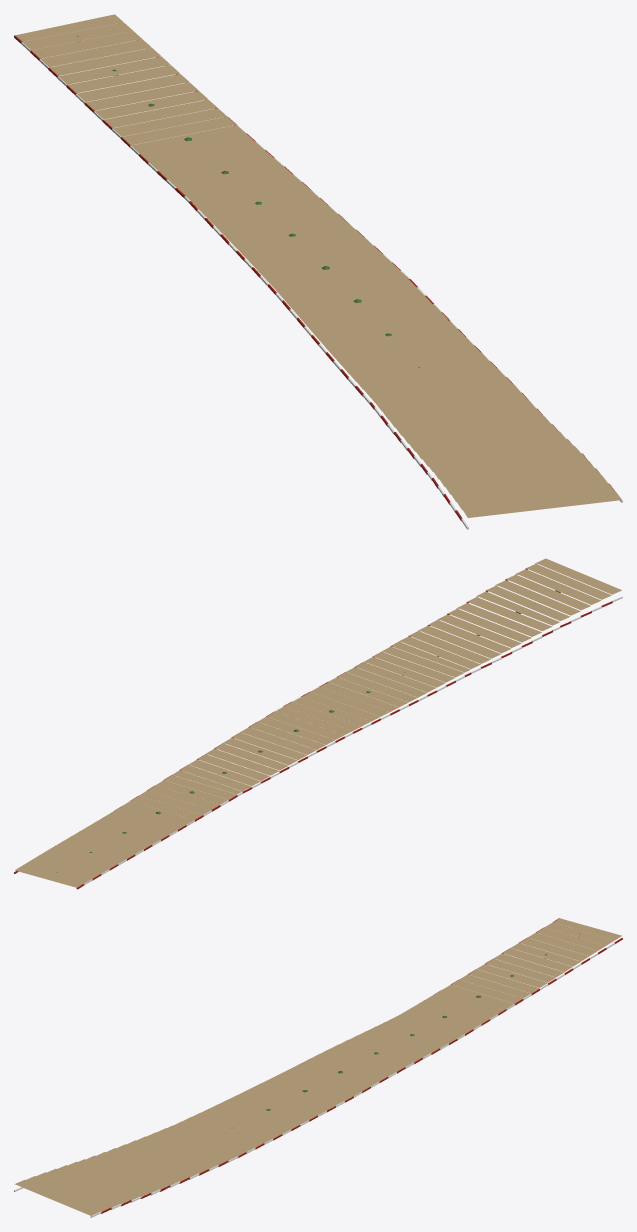
The model's file is pb_median_0.glb.
3 renders of one model, top to bottom at view 1: azimuth 30°, elevation 25°; view 2: azimuth 150°, elevation 25°; view 3: azimuth 330°, elevation 25°, orthographic. The views are drawn at different scales.
Visible parts, largest first — view 1: pb_median_0_lod0; view 2: pb_median_0_lod0; view 3: pb_median_0_lod0.
Boxes of the visible parts, bbox=[...] form: pb_median_0_lod0: bbox=[14, 14, 622, 529]; pb_median_0_lod0: bbox=[14, 558, 622, 889]; pb_median_0_lod0: bbox=[14, 918, 622, 1217].
Size of what is drawn, in the model's own units: 44.94 by 4.52 by 183.
